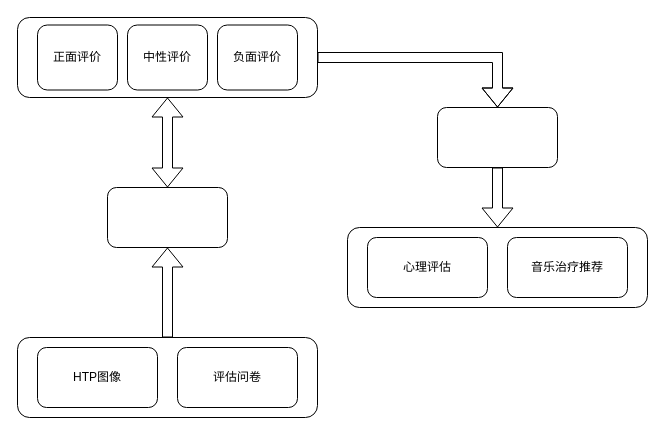
The diagram is 665 pixels wide and 435 high, and some of its shapes have lost their labels. The shapes that lost their labels are listed below. From the top down, each one's centre as x and y in pixels, then its label:
pixel 497 137: 大模型
pixel 167 217: 心理健康模型
